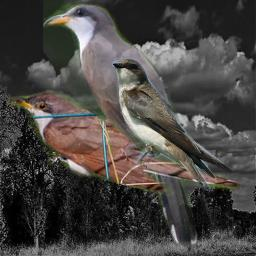Cuckoo: (43, 0, 203, 252), (7, 87, 246, 203)
Swallow: (112, 58, 233, 191)
